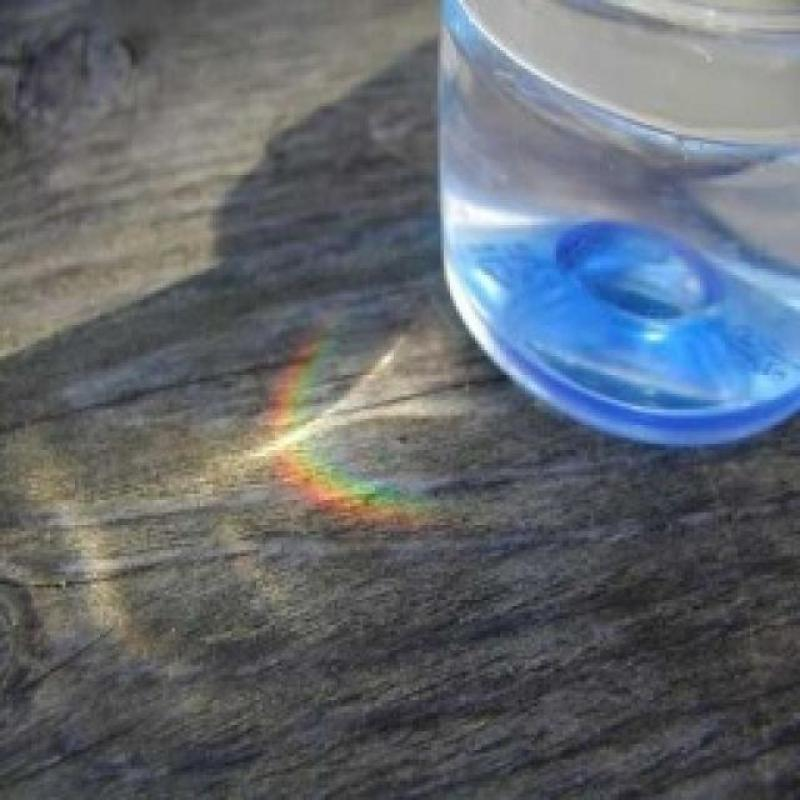botella: (434, 0, 800, 452)
